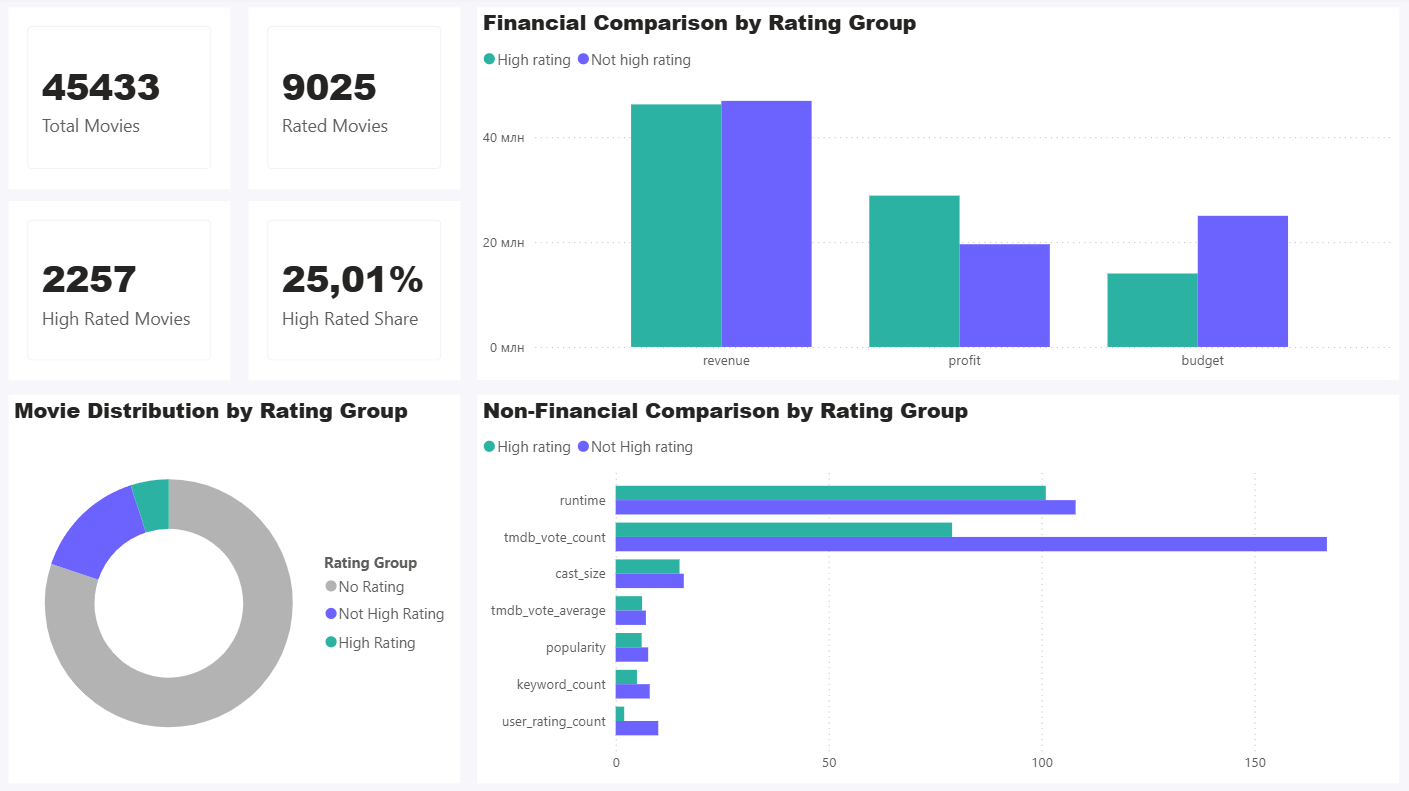

The dashboard page shown, as its layout file describes it:
{"tool":"powerbi","page":{"name":"Overview","canvas":[1280,720],"ordinal":0},"visuals":[{"type":"cardVisual","fields":{"Data":["mart_movie_main.Total Movies"]},"box":[11.2,10,200,163.8],"z":0},{"type":"cardVisual","fields":{"Data":["mart_movie_main.Rated Movies"]},"box":[227.5,10,191.2,163.8],"z":1000},{"type":"cardVisual","fields":{"Data":["mart_movie_main.High Rated Movies"]},"box":[11.2,185,200,161.2],"z":2000},{"type":"cardVisual","fields":{"Data":["mart_movie_main.High Rated Share"]},"box":[227.5,185,191.2,161.2],"z":3000},{"type":"donutChart","title":"Movie Distribution by Rating Group","fields":{"Category":["mart_movie_main.Rating Group"],"Y":["CountNonNull(mart_movie_main.id_num)"]},"box":[11.2,360,407.5,350],"z":4000},{"type":"clusteredColumnChart","title":"Financial Comparison by Rating Group","fields":{"Category":["financial_comparison.metric"],"Y":["Sum(financial_comparison.Высокий рейтинг)","Sum(financial_comparison.Не высокий рейтинг)"]},"box":[433.8,10,831.2,336.2],"z":5000},{"type":"clusteredBarChart","title":"Non-Financial Comparison by Rating Group","fields":{"Category":["non_financial_comparison.metric"],"Y":["Sum(non_financial_comparison.Не высокий рейтинг)","Sum(non_financial_comparison.Высокий рейтинг)"]},"box":[433.8,360,831.2,350],"z":6000}]}

Visuals, with their boxes in screenshot pixels (x1, y1, x2, y2), scaled from the page's 1280x720 canvas onto the 1409x791 screenshot:
cardVisual - mart_movie_main.Total Movies: l=12, t=11, r=232, b=191
cardVisual - mart_movie_main.Rated Movies: l=250, t=11, r=461, b=191
cardVisual - mart_movie_main.High Rated Movies: l=12, t=203, r=232, b=380
cardVisual - mart_movie_main.High Rated Share: l=250, t=203, r=461, b=380
"Movie Distribution by Rating Group" donutChart: l=12, t=396, r=461, b=780
"Financial Comparison by Rating Group" clusteredColumnChart: l=478, t=11, r=1392, b=380
"Non-Financial Comparison by Rating Group" clusteredBarChart: l=478, t=396, r=1392, b=780
